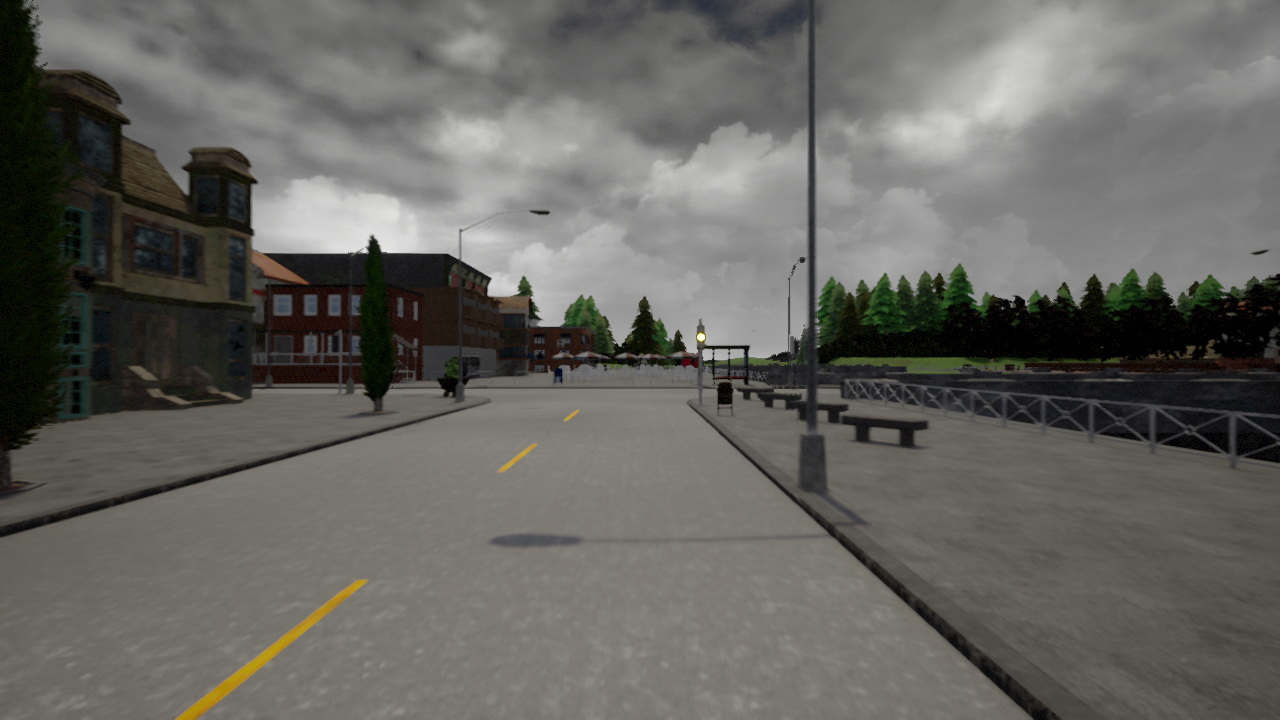yellow: (696, 324, 706, 352)
